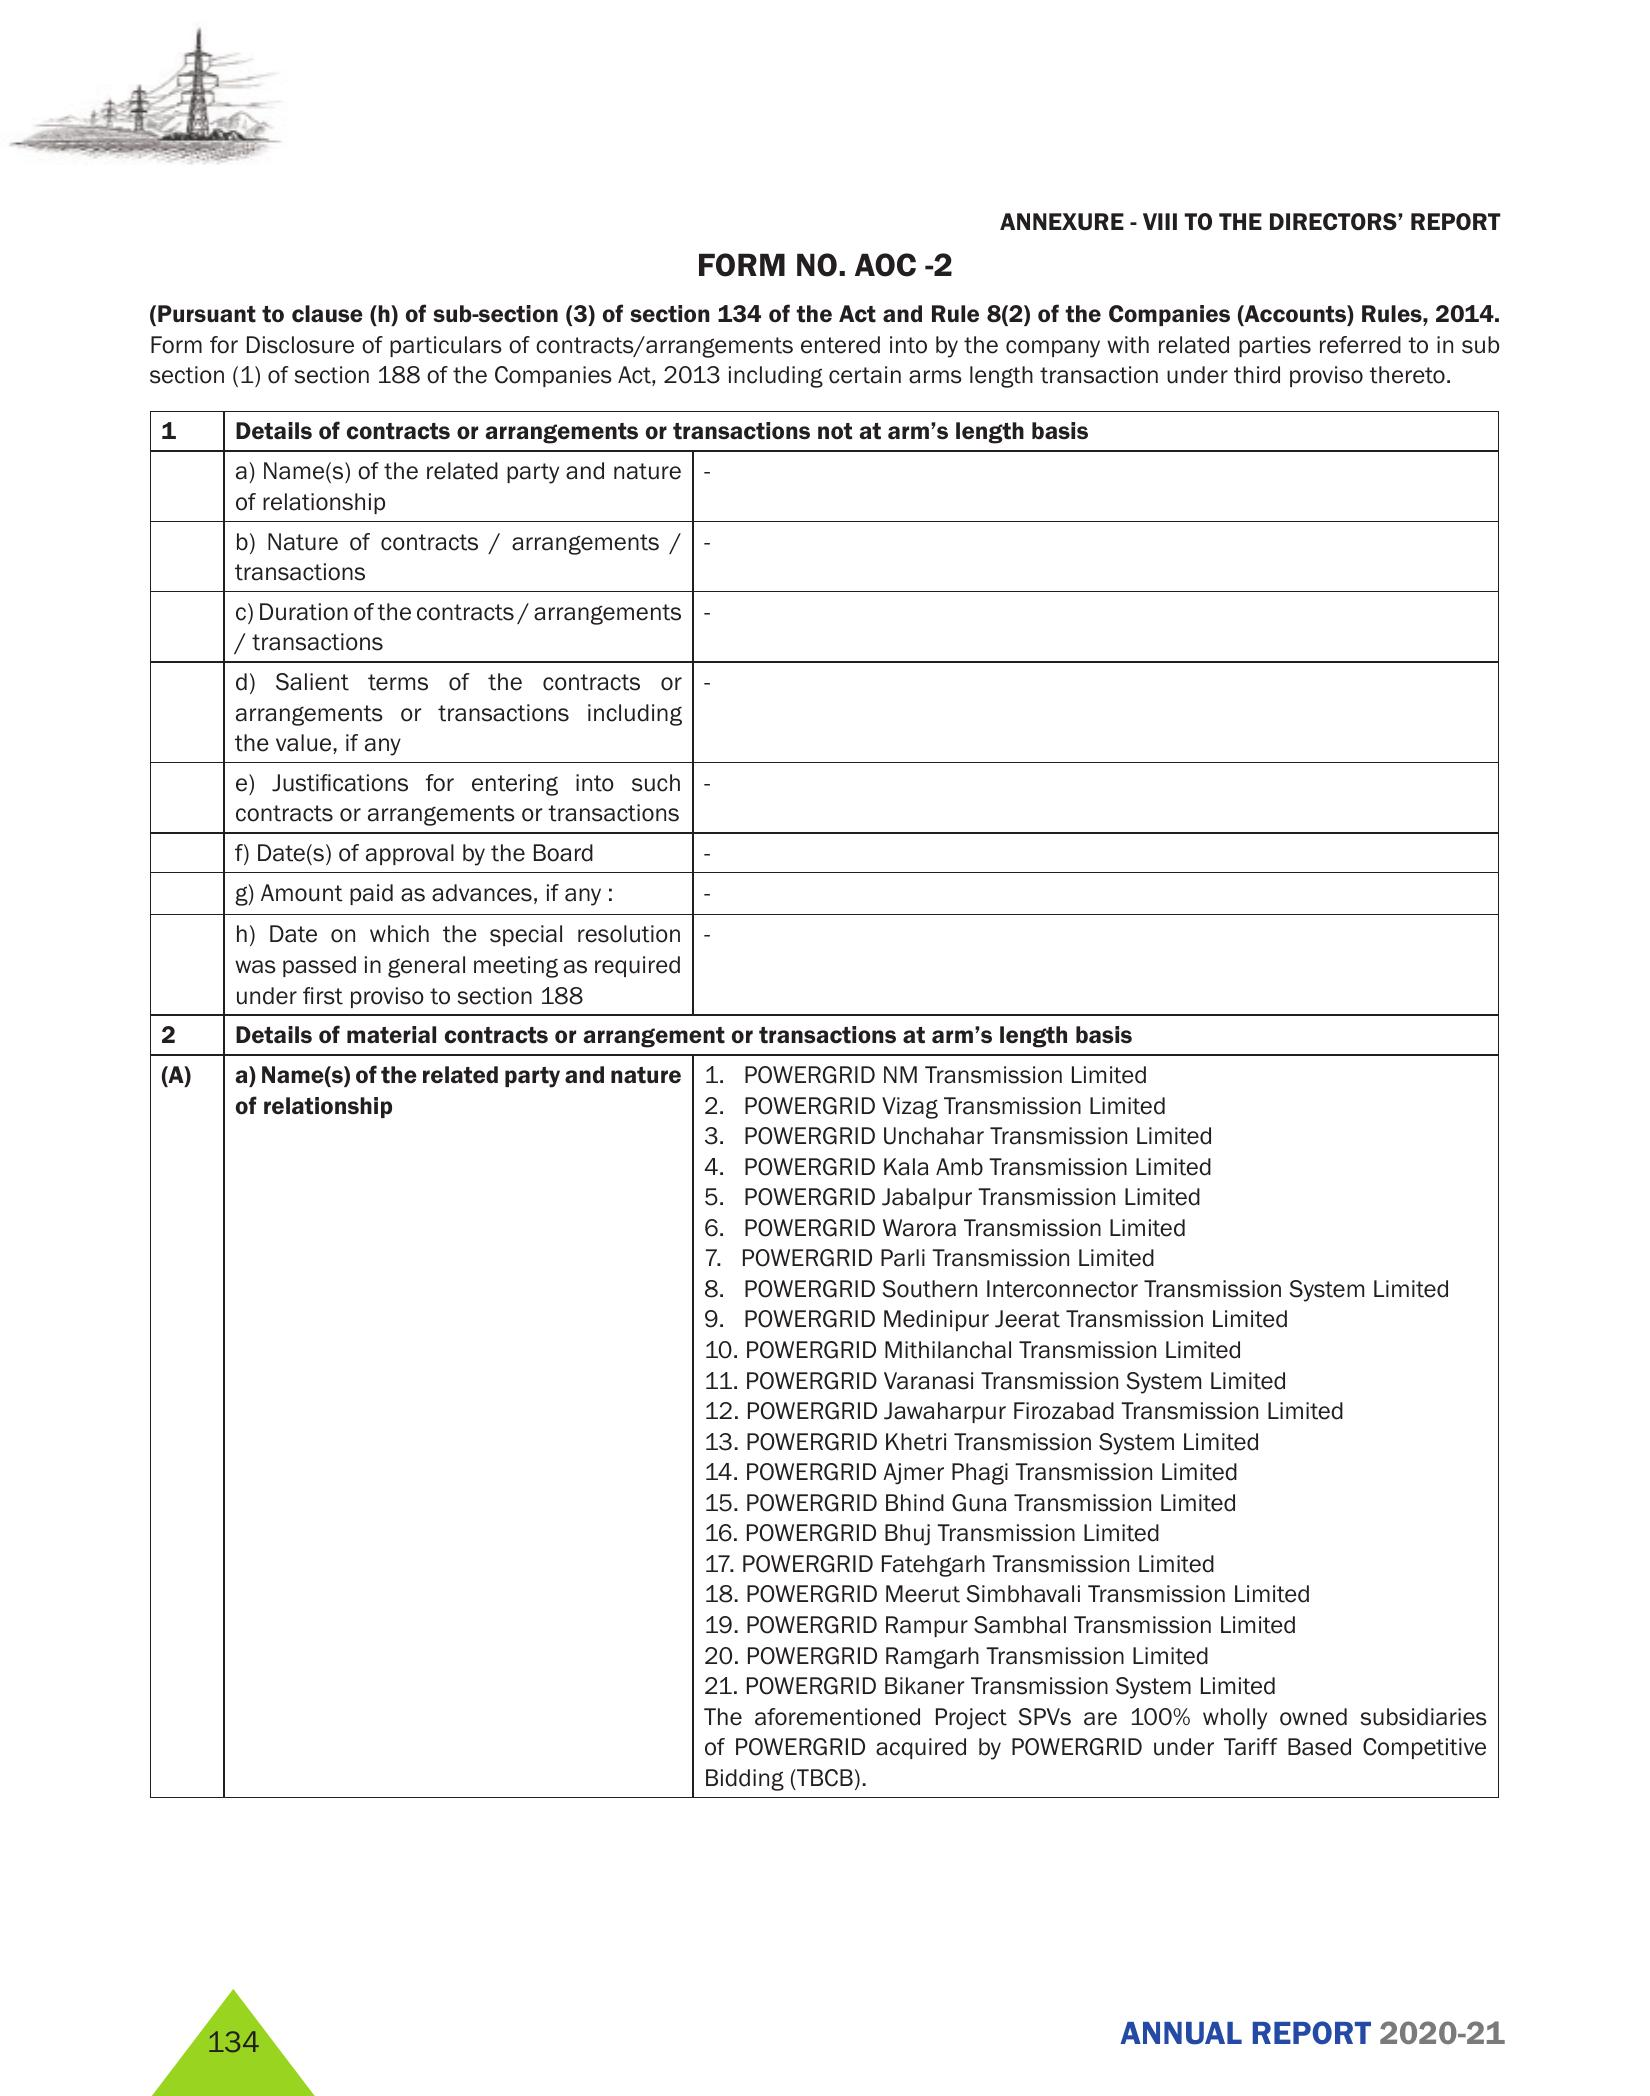Footer: (0, 1965, 1650, 2096)
Header: (0, 0, 1650, 184)
Table: (85, 403, 1556, 1848)
